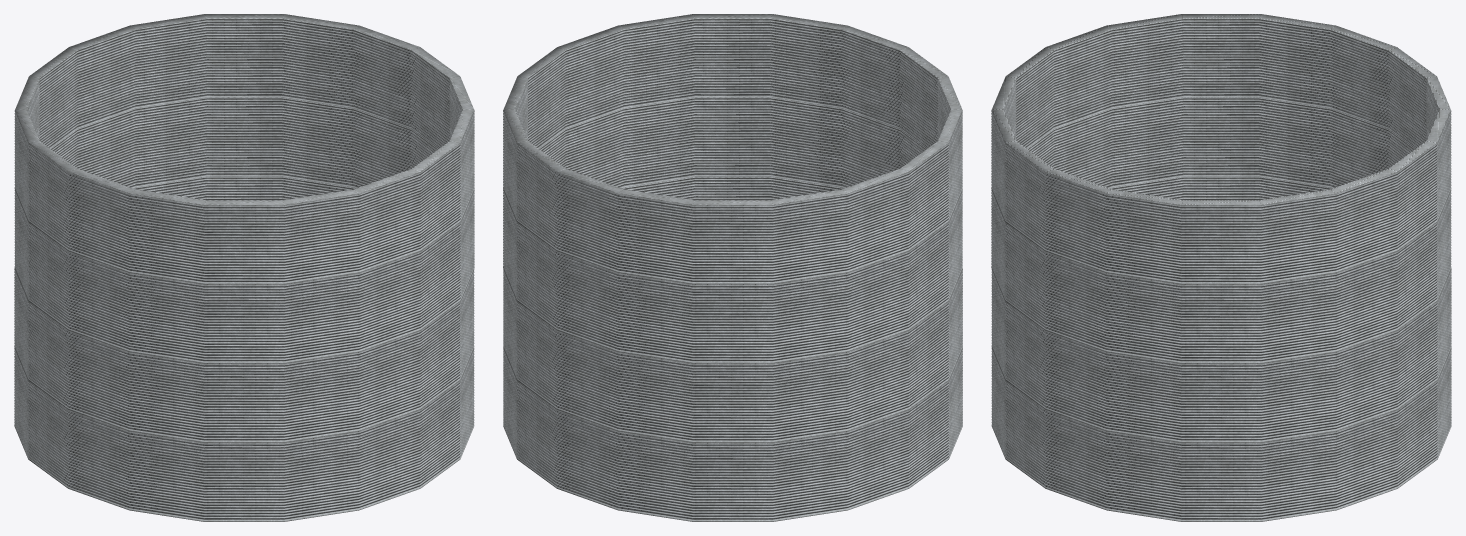
The model's file is TubeTEST.glb.
3 renders of one model, left to right at view 1: azimuth 30°, elevation 25°; view 2: azimuth 150°, elevation 25°; view 3: azimuth 270°, elevation 25°, orthographic.
Parts seen in each view (by area): view 1: Cylinder.004; view 2: Cylinder.004; view 3: Cylinder.004.
Boxes of the visible parts, x1,y1,x2,y2 form: Cylinder.004: (14,14,474,521); Cylinder.004: (503,14,962,521); Cylinder.004: (991,14,1451,521).
Size of the model in its own units: 9.33 by 7.2 by 9.48.
1 material, 1 textured.
